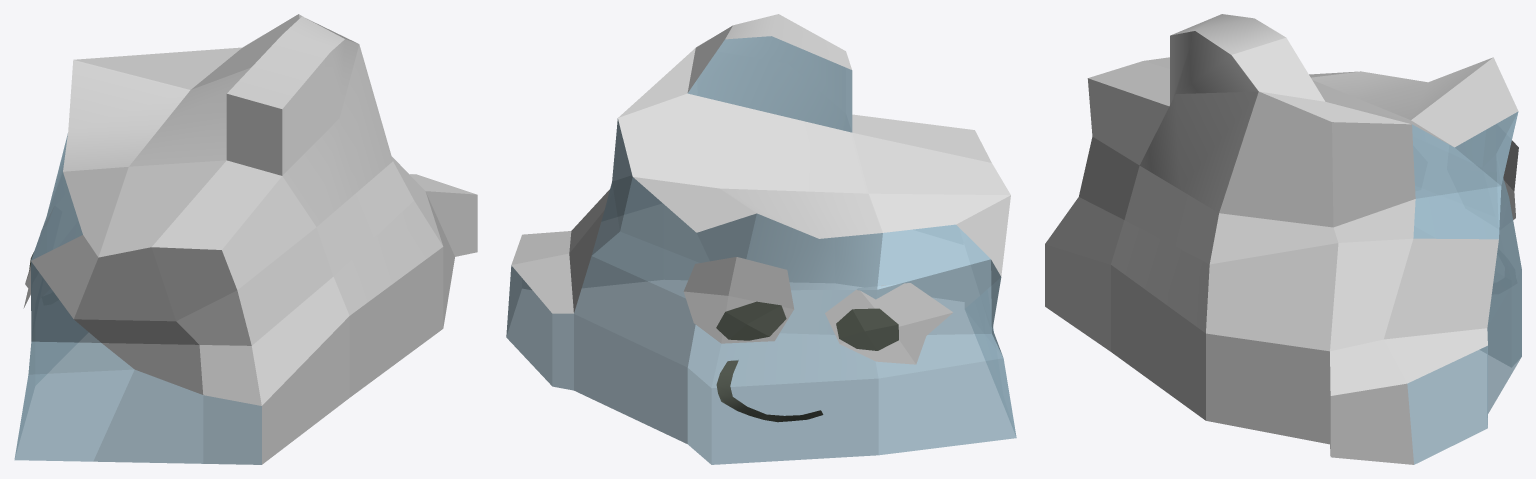
Rendered from petRock.fbx.
The picture shows the model from 3 angles, left to right: view 1: azimuth 30°, elevation 25°; view 2: azimuth 150°, elevation 25°; view 3: azimuth 270°, elevation 25°; orthographic projection. The views are drawn at different scales.
Visible parts, largest first — view 1: petRock_OBJ; view 2: petRock_OBJ, petRock_OBJ1, petRock_OBJ2, petRock_OBJ3, petRock_OBJ4, petRock_OBJ5; view 3: petRock_OBJ, petRock_OBJ1.
Part boxes in pixels (x1,y1,x2,y2): petRock_OBJ: (14,14,477,464); petRock_OBJ: (506,14,1016,464); petRock_OBJ1: (683,257,794,343); petRock_OBJ2: (825,283,952,364); petRock_OBJ3: (836,308,898,350); petRock_OBJ4: (716,301,786,340); petRock_OBJ5: (716,360,823,422); petRock_OBJ: (1045,14,1521,464); petRock_OBJ1: (1503,140,1518,219).
Bounding box in the file's own units: 34.19 × 23.92 × 26.78.
